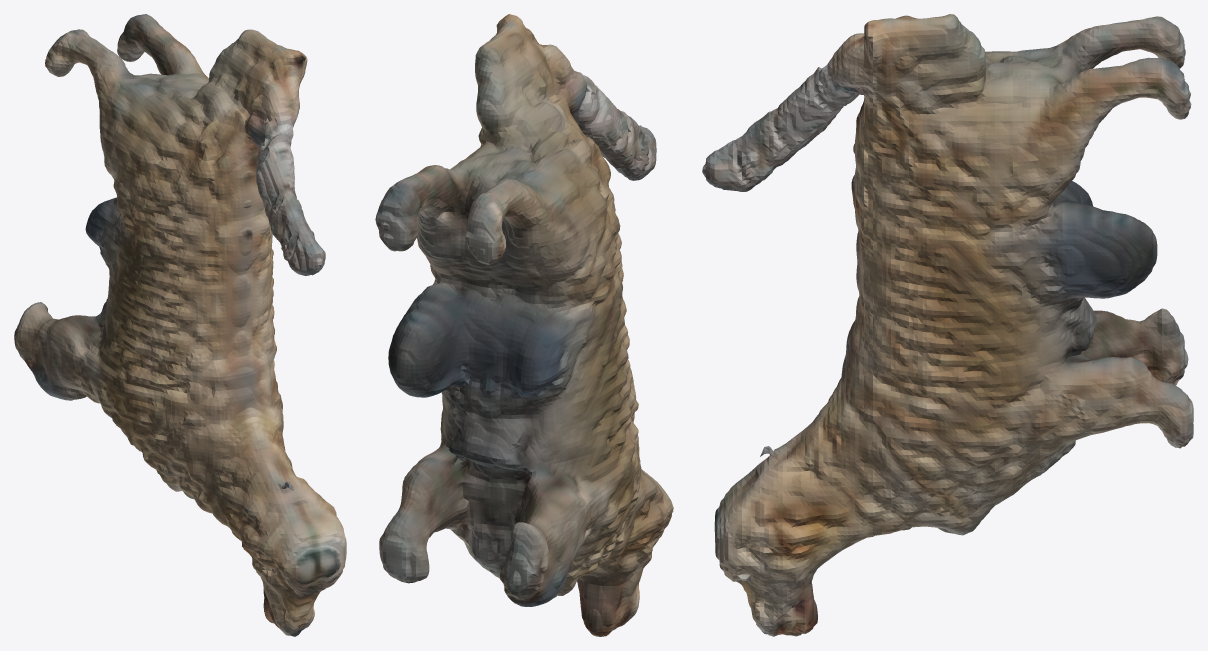
The picture shows the model from 3 angles, left to right: view 1: azimuth 30°, elevation 25°; view 2: azimuth 150°, elevation 25°; view 3: azimuth 270°, elevation 25°; orthographic projection. The views are drawn at different scales.
Visible parts, largest first — view 1: world; view 2: world; view 3: world.
Part boxes in pixels (<box>): world: <box>14,14,346,636</box>; world: <box>375,14,673,636</box>; world: <box>702,14,1193,636</box>.
Bounding box in the file's own units: 0.3431 × 1.06 × 0.7419.
